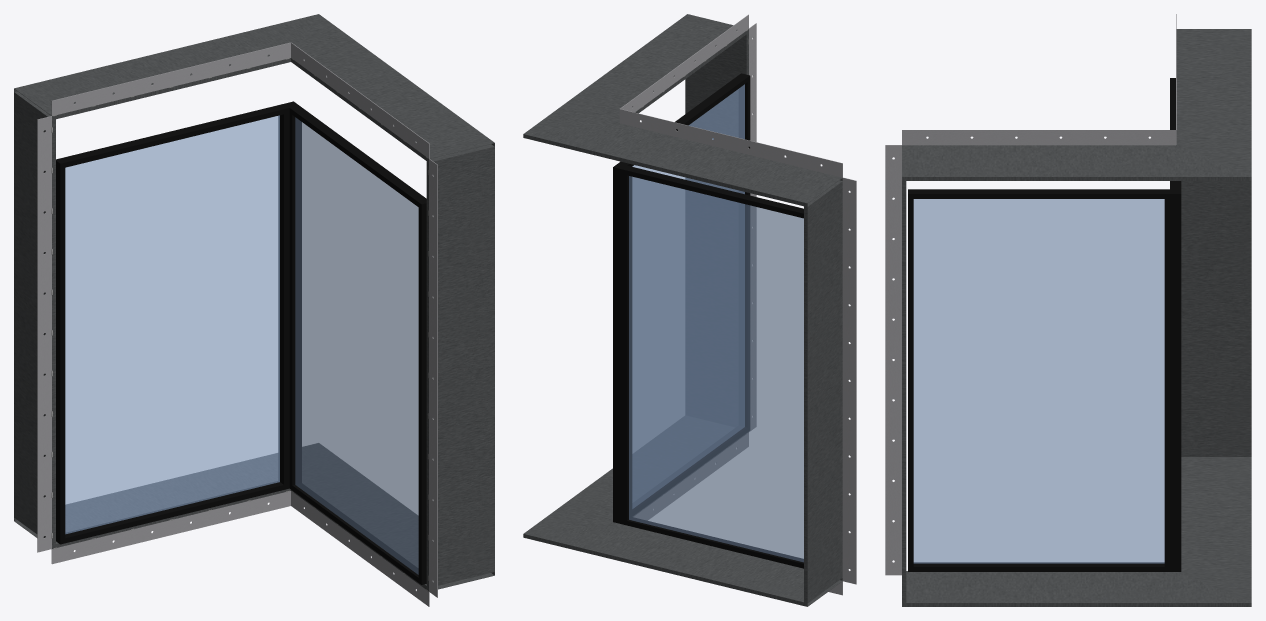
Rendered from window_shroud_corner 1.glb.
3 renders of one model, left to right at view 1: azimuth 30°, elevation 25°; view 2: azimuth 150°, elevation 25°; view 3: azimuth 270°, elevation 25°, orthographic. The views are drawn at different scales.
Parts seen in each view (by area): view 1: Material2 (×19); view 2: Material2 (×18); view 3: Material2 (×12).
Boxes of the visible parts, x1,y1,x2,y2 form: Material2 (×19): (14,14,494,606); Material2 (×18): (523,14,856,606); Material2 (×12): (885,29,1251,606).
Bounding box in the file's own units: 64.88 × 89.92 × 64.88.
7 materials, 4 textured.
